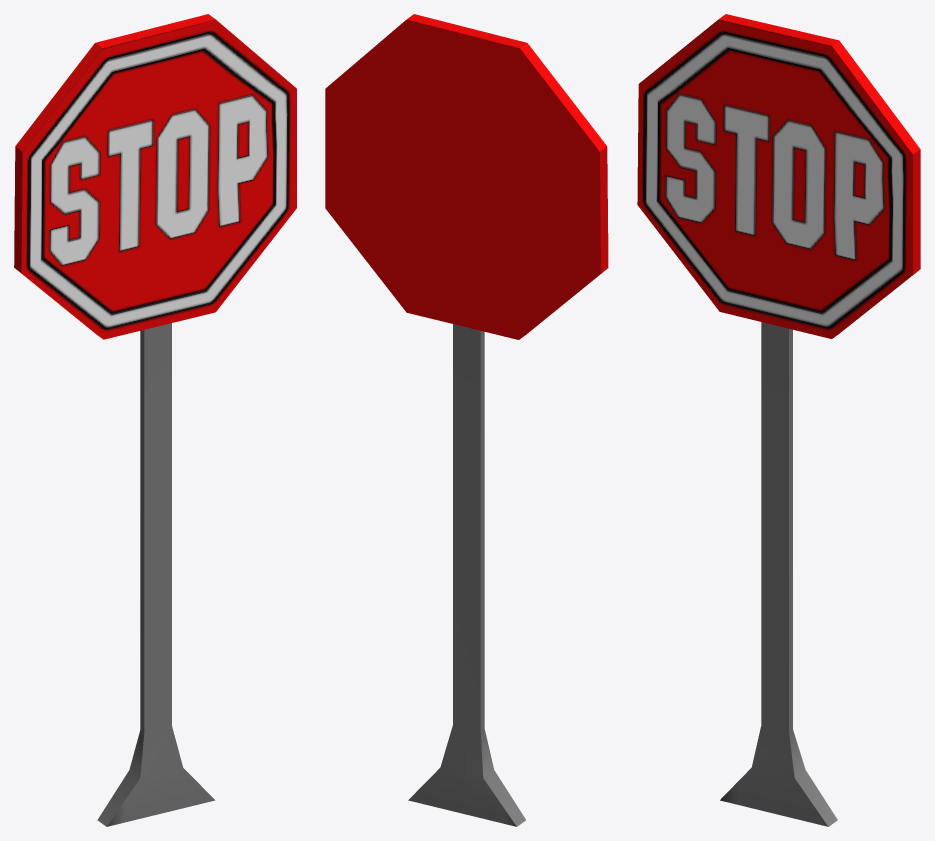
File: posteAlto.obj
3 renders of one model, left to right at view 1: azimuth 30°, elevation 25°; view 2: azimuth 150°, elevation 25°; view 3: azimuth 330°, elevation 25°, orthographic.
Visible parts, largest first — view 1: pasted__polySurface17 group; view 2: pasted__polySurface17 group; view 3: pasted__polySurface17 group.
Boxes of the visible parts, x1,y1,x2,y2 form: pasted__polySurface17 group: (14,14,296,826); pasted__polySurface17 group: (325,14,608,826); pasted__polySurface17 group: (637,14,920,826).
Size of the model in its own units: 1.4 by 3.8 by 0.0973.
Materials: 1 (1 with a texture image).
